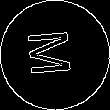M_E: (28, 30, 82, 80)
